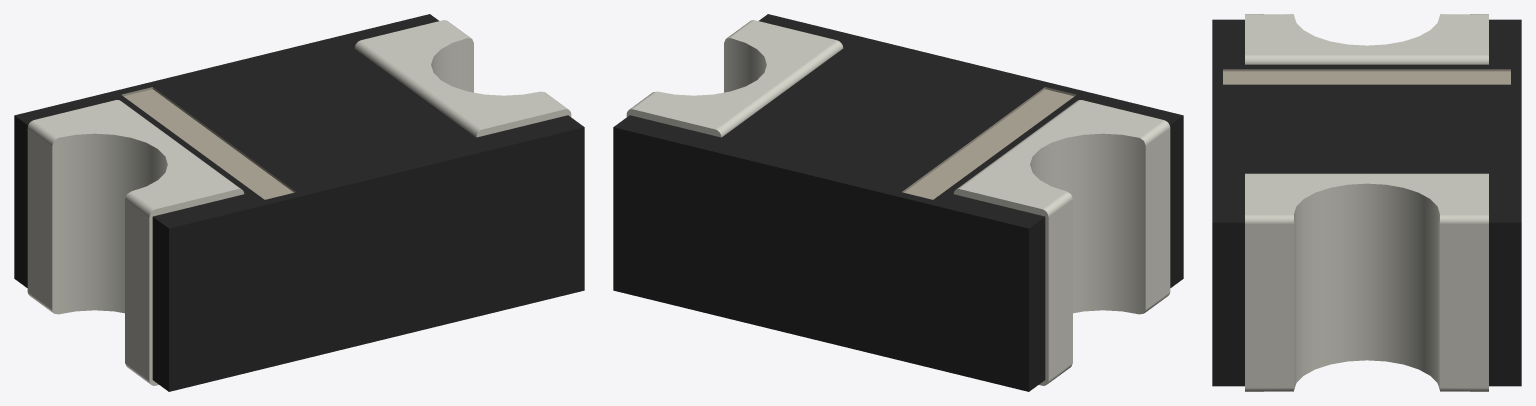
Rendered from D_0805_2012Metric.glb.
3 renders of one model, left to right at view 1: azimuth 30°, elevation 25°; view 2: azimuth 150°, elevation 25°; view 3: azimuth 270°, elevation 25°, orthographic.
Visible parts, largest first — view 1: =>[0:1:1:3]; view 2: =>[0:1:1:3]; view 3: =>[0:1:1:3].
Part boxes in pixels (box(x1,y1,x2,y2)): =>[0:1:1:3]: box(14, 14, 584, 391); =>[0:1:1:3]: box(613, 14, 1183, 391); =>[0:1:1:3]: box(1212, 14, 1521, 391).
Size of the model in its own units: 0.002 by 0.0008 by 0.00127.
